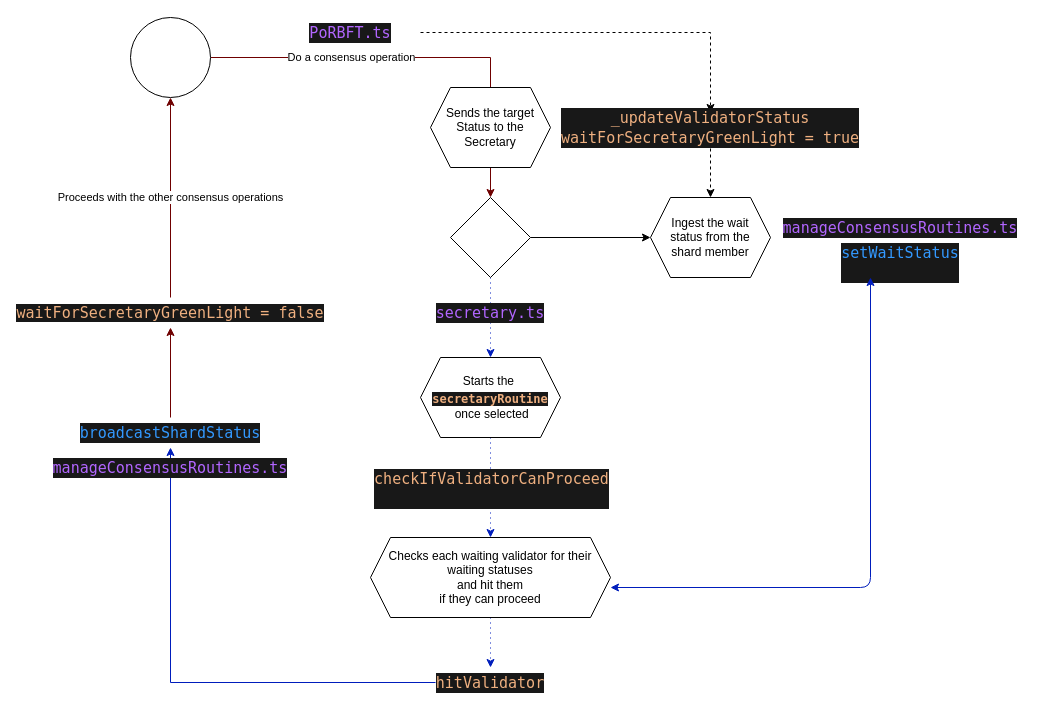
Image size: 1038x715. Some labels were removed from this diagram. Here are the shapes that lost their labels. From the top down, the centre of each, then its label:
[170,57]: Node 1
[490,237]: Secretary
